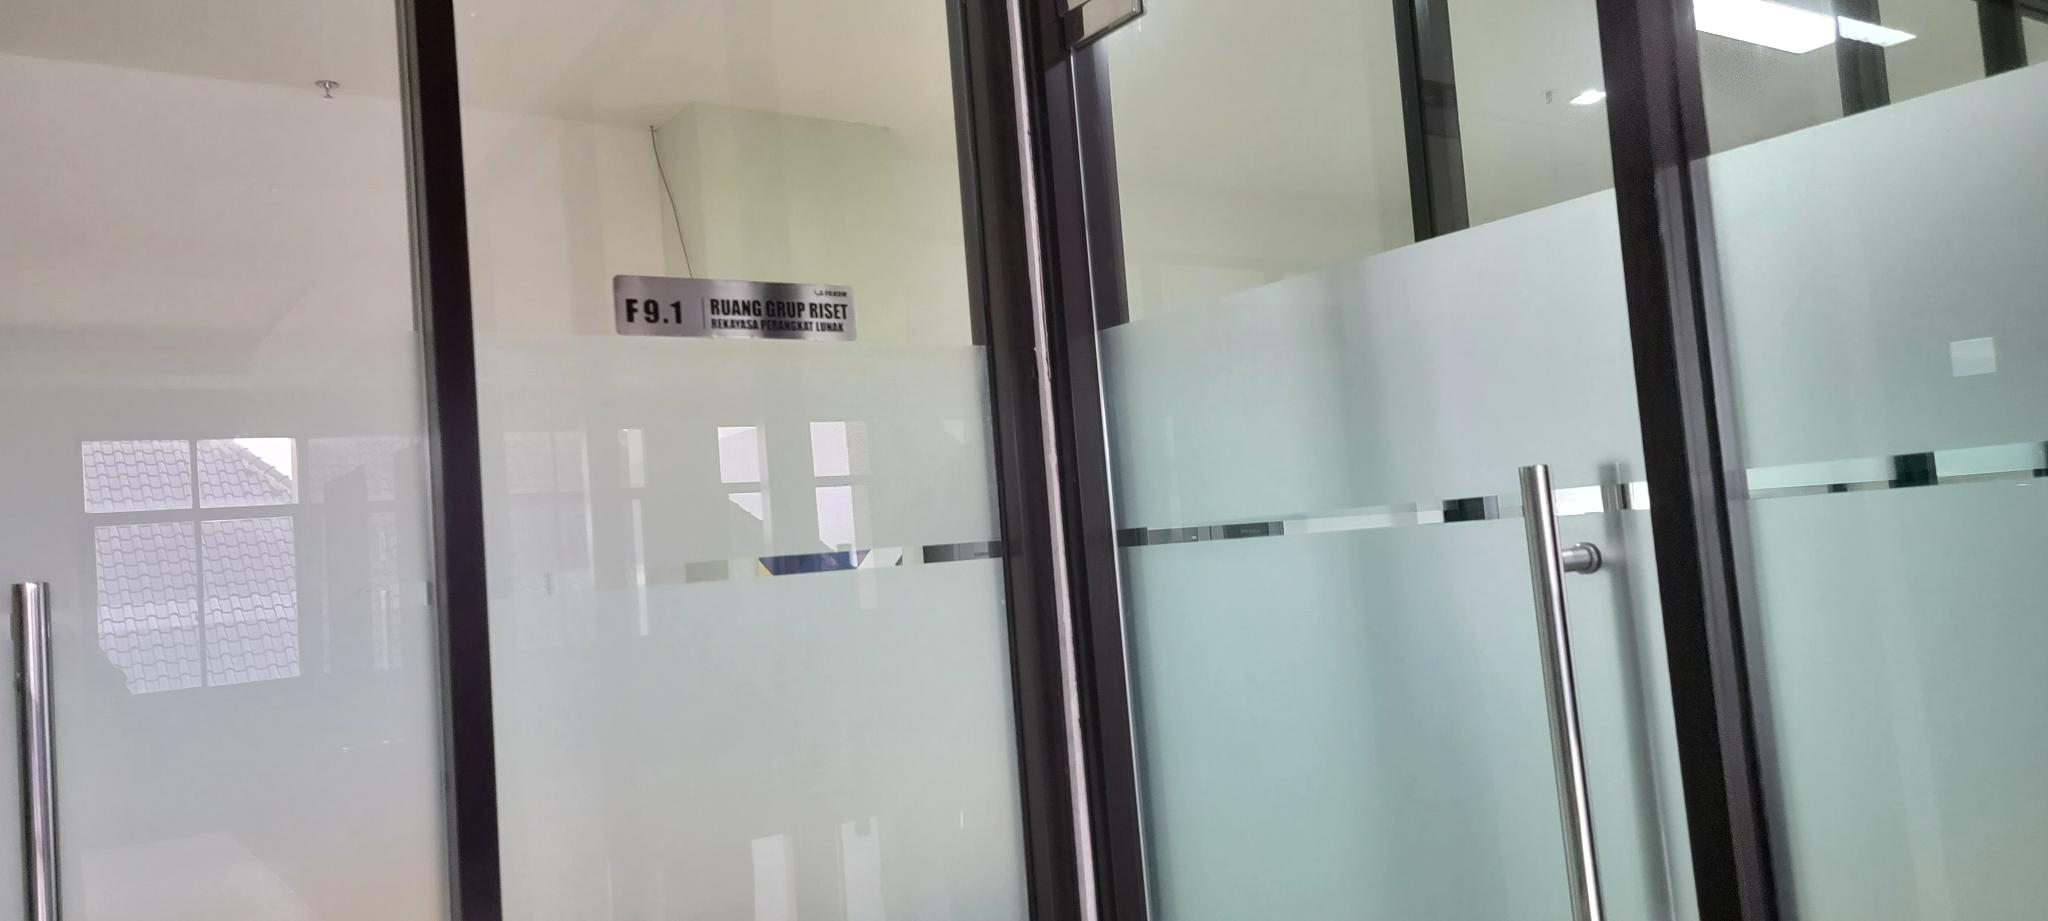plate: (614, 272, 859, 342)
